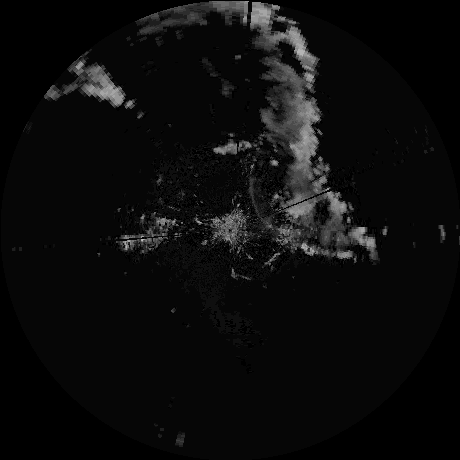frontgust: (248, 160, 283, 229)
